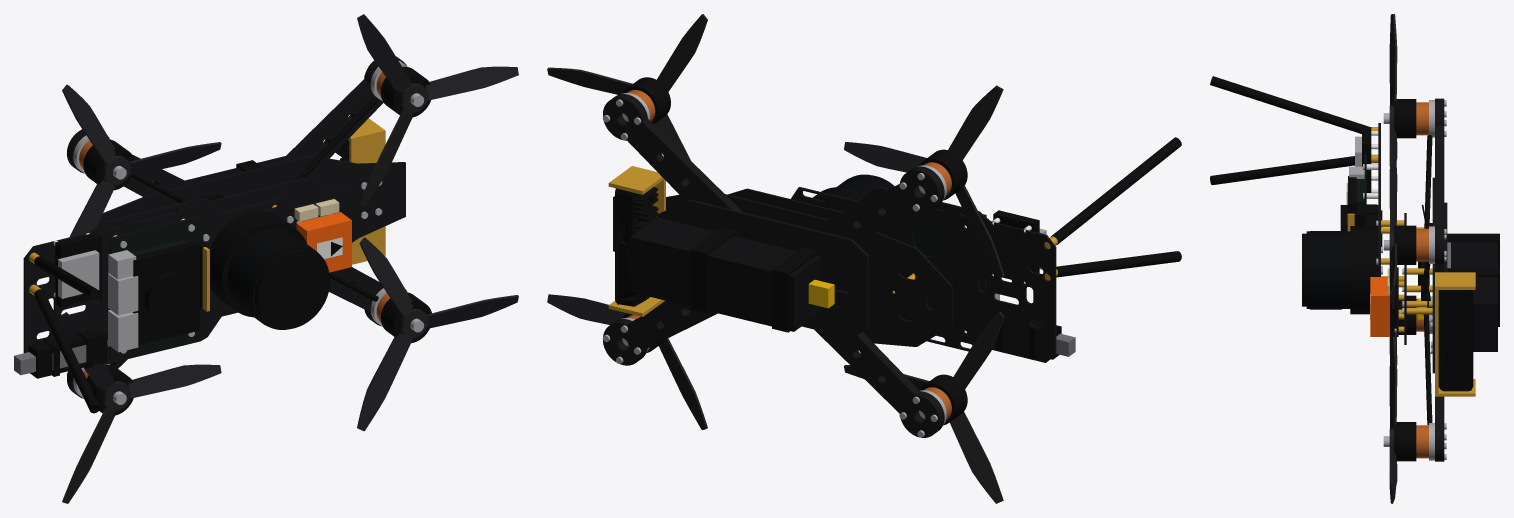
File: aos7v5_cad.obj
3 views of the same model, side by side, from view 1: azimuth 30°, elevation 25°; view 2: azimuth 150°, elevation 25°; view 3: azimuth 270°, elevation 25° (orthographic). The views are drawn at different scales.
Parts seen in each view (by area): view 1: base_link_carbon, l2_link_black, payload_deck_link_carbon, jetson_link_black, rotor_0_prop, rotor_2_prop, rotor_1_prop, rotor_3_prop, radio_link_black, jetson_link_pcb, jetson_link_alu, l2_link_glass (+11 smaller); view 2: base_link_carbon, payload_deck_link_carbon, battery_link_lipo, rotor_1_prop, radio_link_black, rotor_3_prop, base_link_black, rotor_2_prop, oak_d_link_black, rotor_0_prop, oak_bracket_link_gold, jetson_link_pcb (+4 smaller); view 3: radio_link_black, l2_link_black, base_link_carbon, oak_d_link_black, battery_link_lipo, l2_link_glass, oak_bracket_link_gold, harness_link_black, rotor_2_prop, rotor_0_prop, cube_carrier_link_orange, base_link_black (+13 smaller).
Boxes of the visible parts, x1,y1,x2,y2 form: base_link_carbon: (67, 56, 406, 398); l2_link_black: (210, 211, 329, 329); payload_deck_link_carbon: (23, 198, 296, 365); jetson_link_black: (132, 241, 207, 345); rotor_0_prop: (357, 237, 518, 431); rotor_2_prop: (357, 14, 518, 205); rotor_1_prop: (62, 84, 221, 236); rotor_3_prop: (61, 312, 221, 503); radio_link_black: (34, 232, 101, 413); jetson_link_pcb: (109, 215, 203, 360); jetson_link_alu: (108, 250, 138, 352); l2_link_glass: (231, 231, 319, 326); base_link_carbon: (603, 94, 952, 437); payload_deck_link_carbon: (791, 187, 1056, 362); battery_link_lipo: (630, 217, 820, 331); rotor_1_prop: (844, 85, 1004, 277); radio_link_black: (993, 137, 1181, 279); rotor_3_prop: (844, 311, 1004, 503); base_link_black: (690, 227, 819, 332); rotor_2_prop: (547, 14, 707, 181); oak_d_link_black: (615, 187, 658, 306); rotor_0_prop: (547, 294, 707, 429); oak_bracket_link_gold: (608, 166, 665, 316); jetson_link_pcb: (914, 204, 986, 309); radio_link_black: (1210, 76, 1371, 192); l2_link_black: (1302, 226, 1378, 314); base_link_carbon: (1404, 98, 1447, 461); oak_d_link_black: (1438, 290, 1473, 391); battery_link_lipo: (1451, 242, 1497, 351); l2_link_glass: (1310, 231, 1341, 309); oak_bracket_link_gold: (1435, 272, 1475, 396); harness_link_black: (1423, 135, 1432, 425); rotor_2_prop: (1389, 140, 1397, 308); rotor_0_prop: (1389, 337, 1397, 503); cube_carrier_link_orange: (1370, 277, 1389, 336); base_link_black: (1447, 233, 1499, 326).
Bounding box in the file's own units: 0.4539 × 0.342 × 0.2461.
